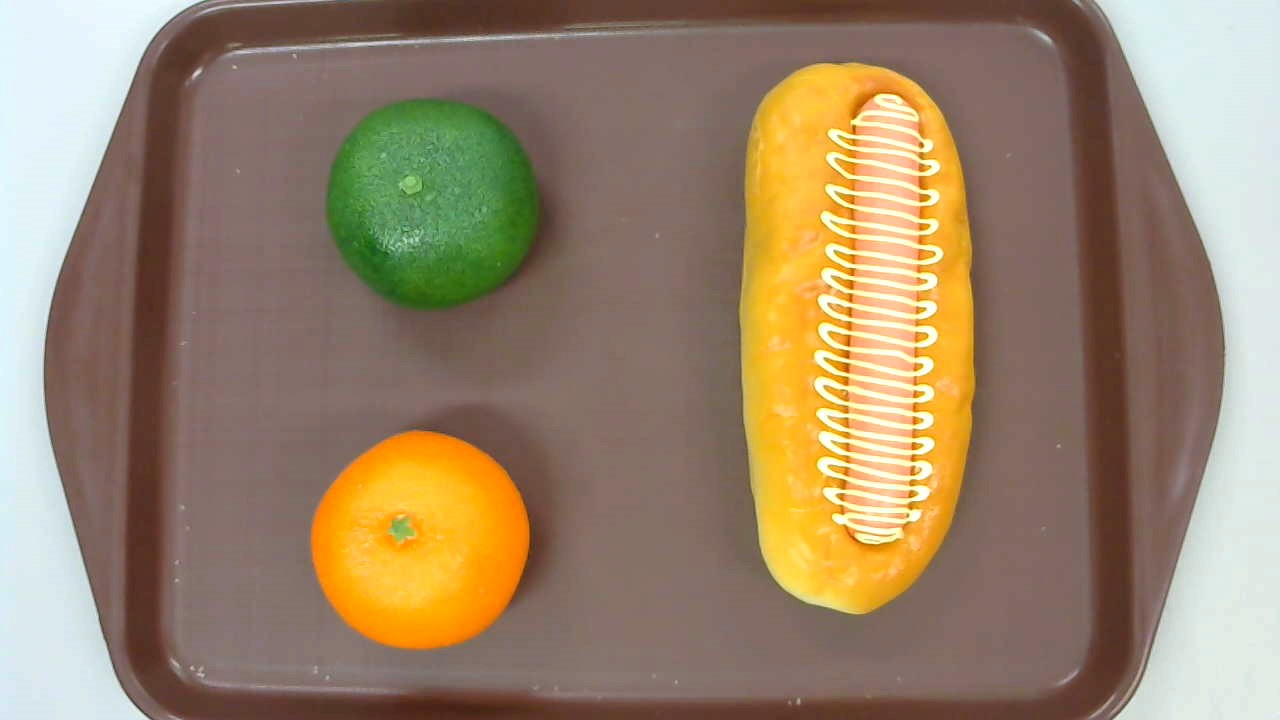green orange: (327, 98, 540, 308)
hot dog: (738, 60, 974, 614)
orange: (310, 429, 531, 649)
